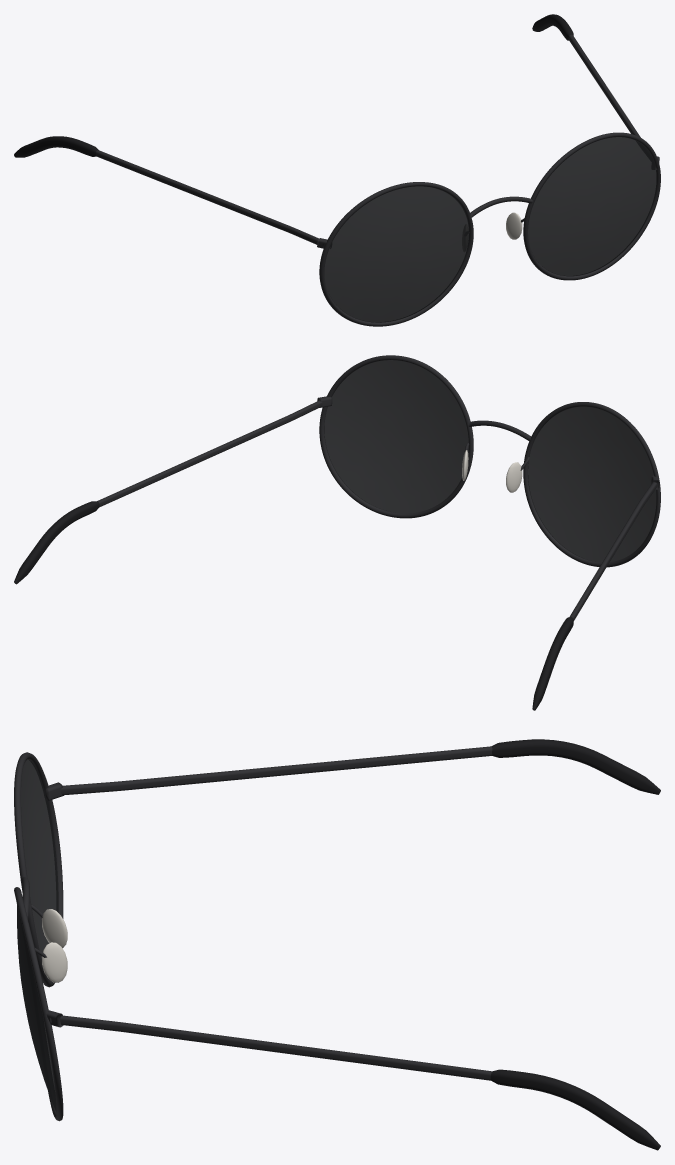
The model's file is round-shades.glb.
3 renders of one model, top to bottom at view 1: azimuth 30°, elevation 25°; view 2: azimuth 150°, elevation 25°; view 3: azimuth 270°, elevation 25°, orthographic. The views are drawn at different scales.
Visible parts, largest first — view 1: glasses; view 2: glasses; view 3: glasses.
Part boxes in pixels (<box>): glasses: <box>14,14,660,326</box>; glasses: <box>14,355,660,710</box>; glasses: <box>14,739,660,1150</box>.
Size of the model in its own units: 0.1814 by 0.0502 by 0.1385.
2 materials, 1 textured.
